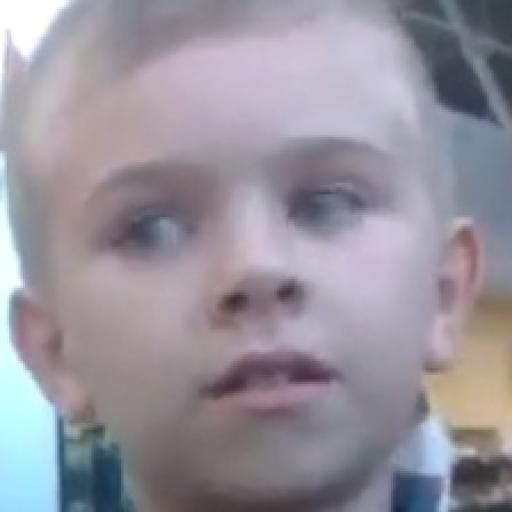Autism: (8, 21, 497, 512)
